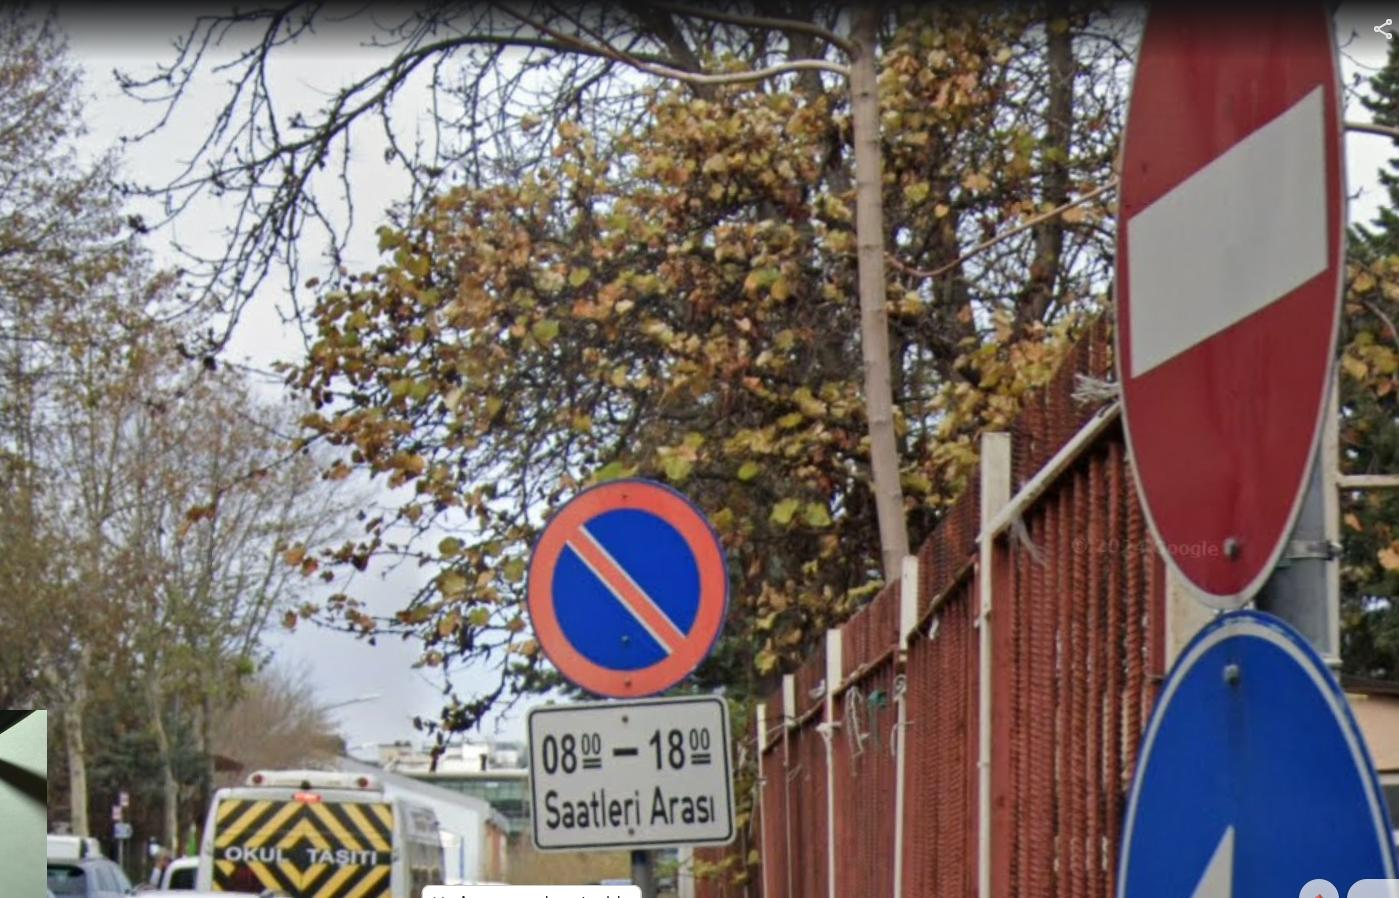nopark: (534, 486, 715, 693)
